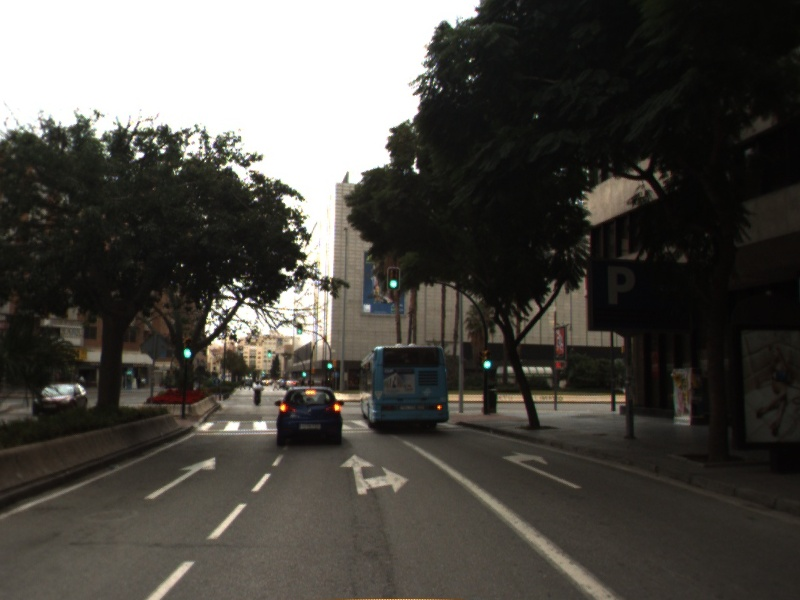RIGHT: (500, 450, 586, 491)
STRAIGHT: (142, 455, 219, 502)
STRAIGHT_RIGHT: (337, 451, 412, 497)
